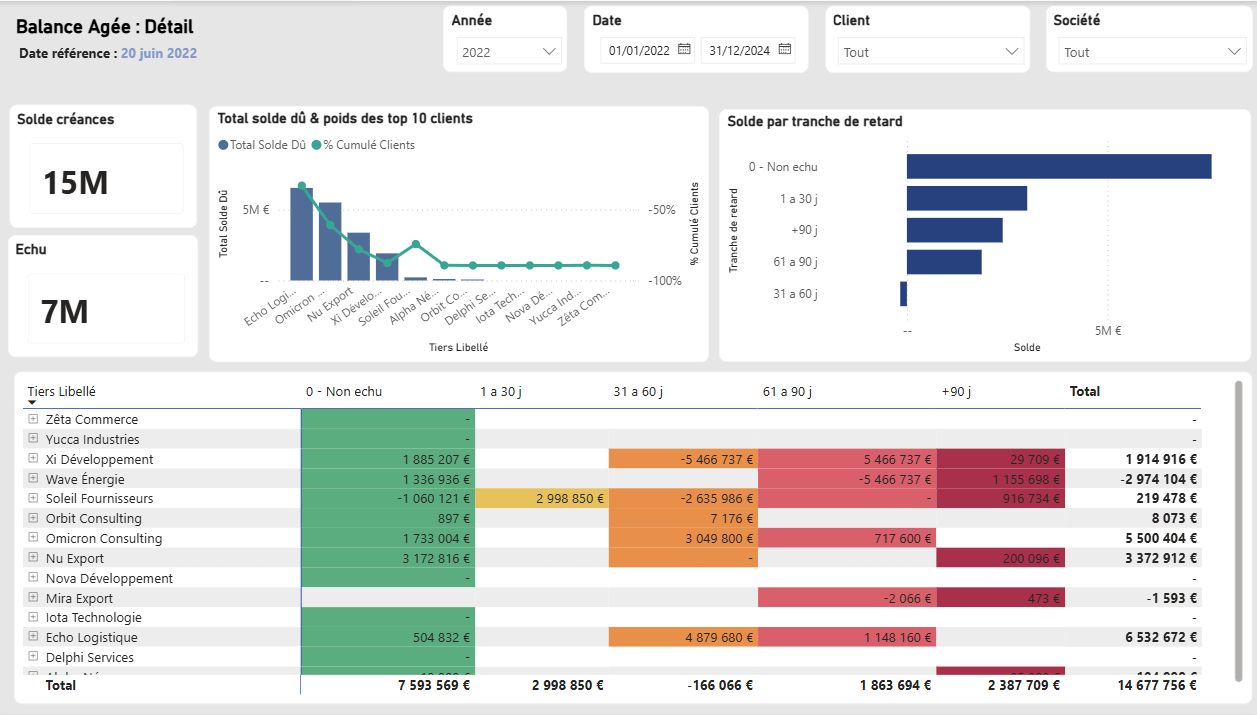

This screenshot's page, from the dashboard's own definition file:
{"tool":"powerbi","page":{"name":"Détail par tranche","canvas":[1280,720],"ordinal":1},"visuals":[{"type":"slicer","title":"Date","fields":{"Values":["Dim_Date.Date"]},"box":[596.8,4.2,226.9,67.9],"z":0,"group":"g1"},{"type":"cardVisual","title":"    Solde créances","fields":{"Data":["Fact_BalanceAgee.Total Solde Dû"]},"box":[16.9,104.6,189.2,124.6],"z":0},{"type":"slicer","title":"Client","fields":{"Values":["Dim_Tiers.Tiers Libellé"]},"box":[840.4,4.2,206.4,67.9],"z":1000,"group":"g1"},{"type":"cardVisual","title":"Echu","fields":{"Data":["Fact_BalanceAgee.Total Échu"]},"box":[15.4,236.9,192.3,123.1],"z":1000},{"type":"slicer","title":"Société","fields":{"Values":["Dim_Societes_Perimetre.Libellé Société"]},"box":[1063.4,4.2,208.5,67.6],"z":2000,"group":"g1"},{"type":"barChart","title":"Solde par tranche de retard","fields":{"Category":["Fact_BalanceAgee.Tranche de retard"],"Y":["Fact_BalanceAgee.Solde Tranche"]},"box":[733.6,109.5,537.1,255.2],"z":2000},{"type":"slicer","title":"Année","fields":{"Values":["Dim_Date.Annee"]},"box":[454.9,4.2,125.4,67.6],"z":3000,"group":"g1"},{"type":"textbox","box":[17.8,9.6,300,47.9],"z":3000},{"type":"group","id":"g1","title":"Groupe 1","box":[454.9,4.2,816.9,68],"z":4000},{"type":"textbox","box":[21.1,38,232.4,33.8],"z":5000},{"type":"pivotTable","fields":{"Columns":["Fact_BalanceAgee.Tranche de retard"],"Rows":["Dim_Tiers.Tiers Libellé","Fact_BalanceAgee.N° Pièce"],"Values":["Fact_BalanceAgee.Total Solde Dû"]},"box":[21.1,373.3,1250,335.6],"z":6000},{"type":"lineClusteredColumnComboChart","title":"Total solde dû & poids des top 10 clients","fields":{"Category":["Dim_Tiers.Tiers Libellé"],"Y":["Fact_BalanceAgee.Total Solde Dû"],"Y2":["Fact_BalanceAgee.% Cumulé Clients"]},"box":[218.5,106.2,504.6,258.5],"z":7000}]}

Visuals, with their boxes in screenshot pixels (x1, y1, x2, y2), scaled from the page's 1280x720 canvas onto the 1257x715 screenshot:
"Date" slicer: <region>586, 4, 809, 72</region>
"    Solde créances" cardVisual: <region>17, 104, 202, 228</region>
"Client" slicer: <region>825, 4, 1028, 72</region>
"Echu" cardVisual: <region>15, 235, 204, 358</region>
"Société" slicer: <region>1044, 4, 1249, 71</region>
"Solde par tranche de retard" barChart: <region>720, 109, 1248, 362</region>
"Année" slicer: <region>447, 4, 570, 71</region>
textbox: <region>17, 10, 312, 57</region>
"Groupe 1" group: <region>447, 4, 1249, 72</region>
textbox: <region>21, 38, 249, 71</region>
pivotTable - Fact_BalanceAgee.Tranche de retard x Dim_Tiers.Tiers Libellé: <region>21, 371, 1248, 704</region>
"Total solde dû & poids des top 10 clients" lineClusteredColumnComboChart: <region>215, 105, 710, 362</region>
